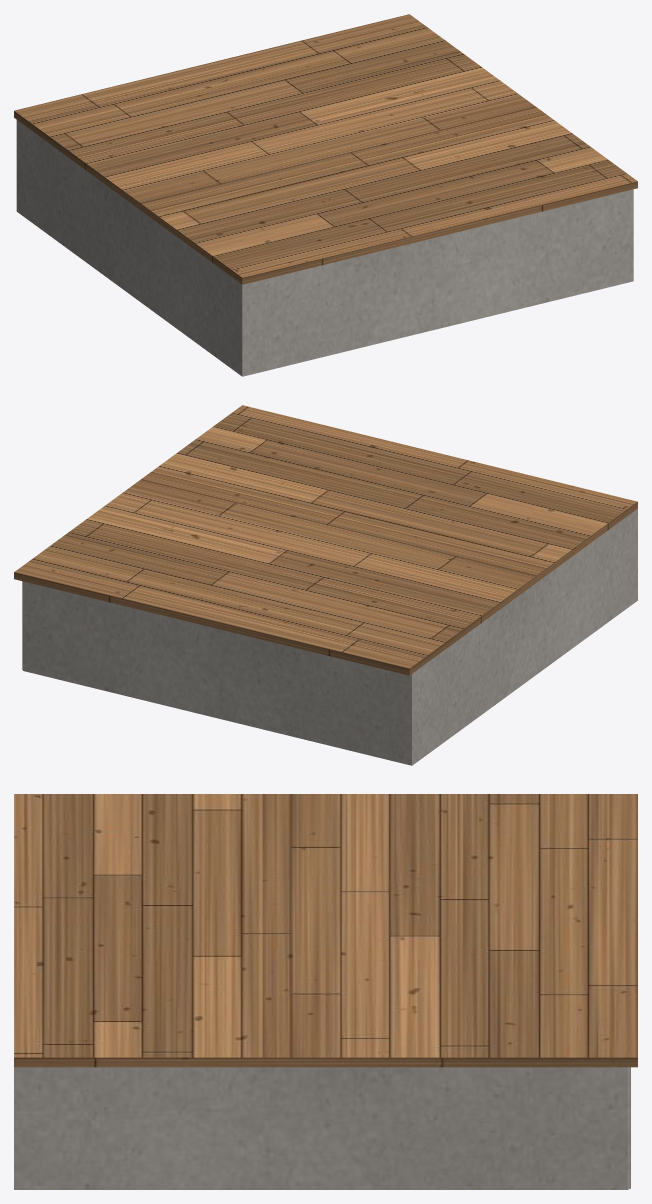
The model's file is floor_wood_e20_0_0_20.glb.
3 renders of one model, top to bottom at view 1: azimuth 30°, elevation 25°; view 2: azimuth 150°, elevation 25°; view 3: azimuth 270°, elevation 25°, orthographic. The views are drawn at different scales.
Visible parts, largest first — view 1: floor_wood_e20_0_0_20_floor, floor_wood_e20_0_0_20_concrete; view 2: floor_wood_e20_0_0_20_floor, floor_wood_e20_0_0_20_concrete; view 3: floor_wood_e20_0_0_20_floor, floor_wood_e20_0_0_20_concrete.
Boxes of the visible parts, x1,y1,x2,y2 form: floor_wood_e20_0_0_20_floor: [14, 14, 637, 284]; floor_wood_e20_0_0_20_concrete: [16, 120, 633, 376]; floor_wood_e20_0_0_20_floor: [14, 405, 637, 675]; floor_wood_e20_0_0_20_concrete: [22, 509, 637, 765]; floor_wood_e20_0_0_20_floor: [14, 794, 637, 1067]; floor_wood_e20_0_0_20_concrete: [14, 1067, 630, 1189].
Size of the model in its own units: 1.8 by 0.43 by 1.8.
Materials: 2 (2 with a texture image).
